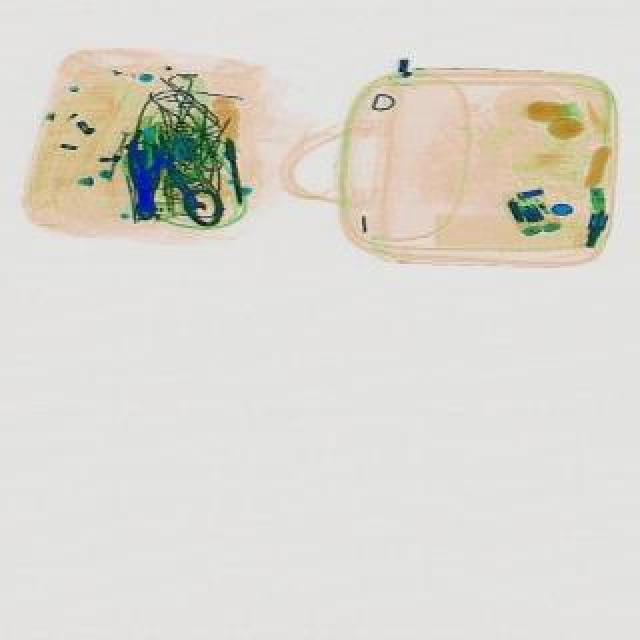scissors: (158, 148, 214, 220)
wrench: (130, 142, 170, 222)
